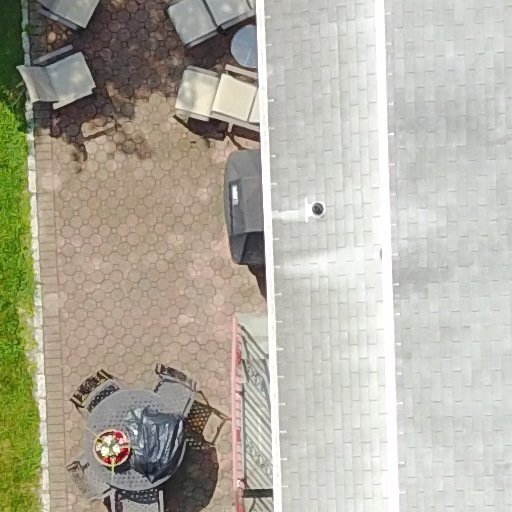flower pot: (91, 421, 135, 486)
porch: (210, 294, 293, 512)
tarp: (122, 397, 186, 484)
